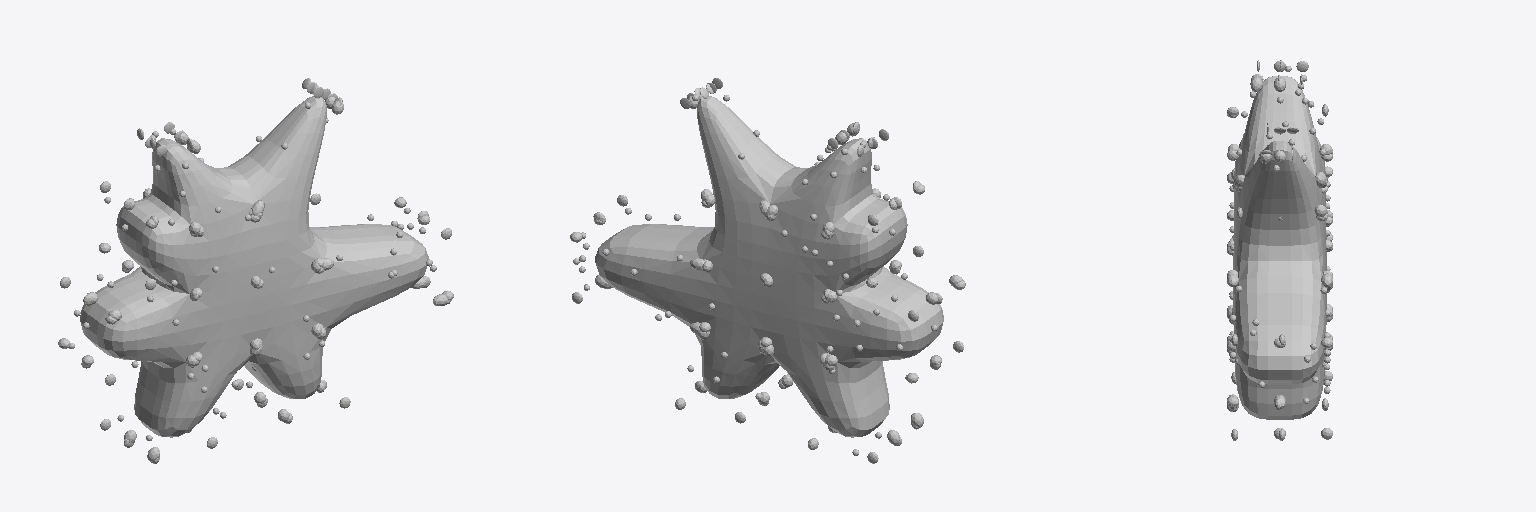
The model's file is AMOEBA.obj.
3 views of the same model, side by side, from view 1: azimuth 30°, elevation 25°; view 2: azimuth 150°, elevation 25°; view 3: azimuth 270°, elevation 25° (orthographic).
Visible parts, largest first — view 1: Cube_1; view 2: Cube_1; view 3: Cube_1.
Part boxes in pixels (left/top/right/bottom): Cube_1: left=58, top=78, right=453, bottom=463; Cube_1: left=570, top=78, right=965, bottom=463; Cube_1: left=1227, top=60, right=1332, bottom=440.
Bounding box in the file's own units: 567 × 499 × 151.